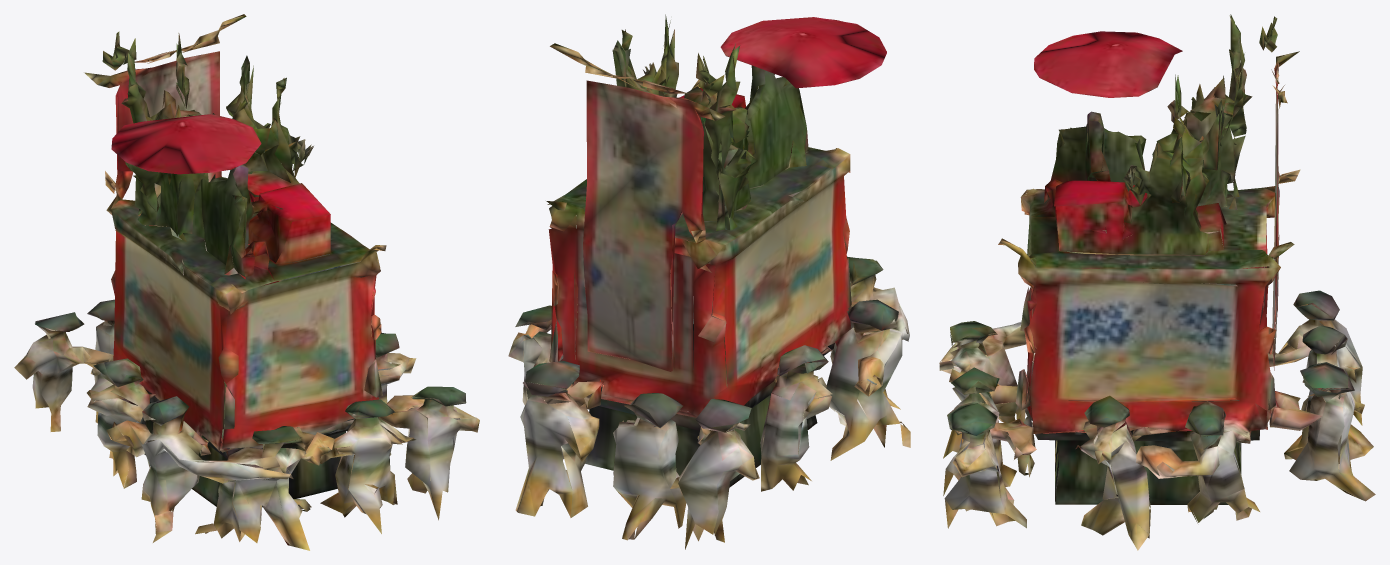
Rendered from 芦刈山.glb.
The picture shows the model from 3 angles, left to right: view 1: azimuth 30°, elevation 25°; view 2: azimuth 150°, elevation 25°; view 3: azimuth 270°, elevation 25°; orthographic projection. The views are drawn at different scales.
Visible parts, largest first — view 1: Mesh1.0; view 2: Mesh1.0; view 3: Mesh1.0.
Part boxes in pixels (x1=…): Mesh1.0: x1=14, y1=14, x2=479, y2=550; Mesh1.0: x1=508, y1=14, x2=910, y2=549; Mesh1.0: x1=939, y1=14, x2=1375, y2=550.
Bounding box in the file's own units: 4.39 × 5.85 × 5.35.
Materials: 1 (1 with a texture image).
